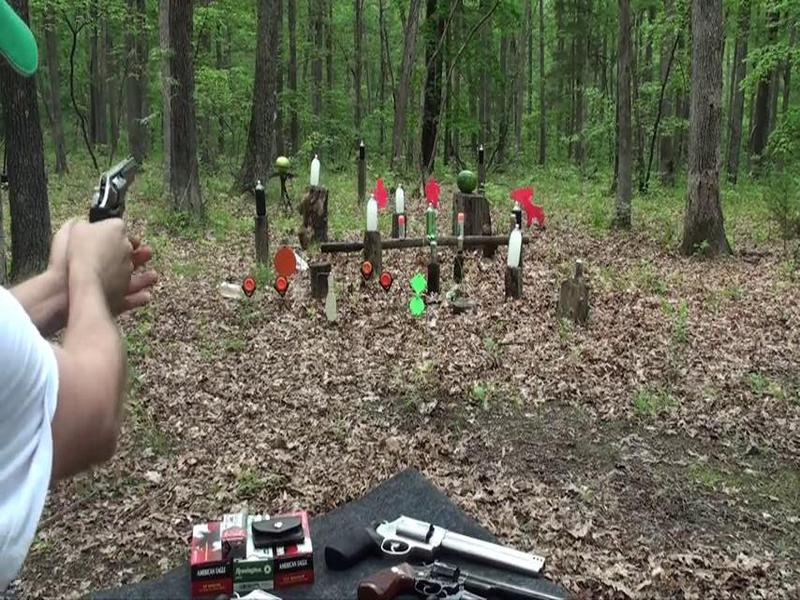Revolver: (81, 146, 158, 244)
